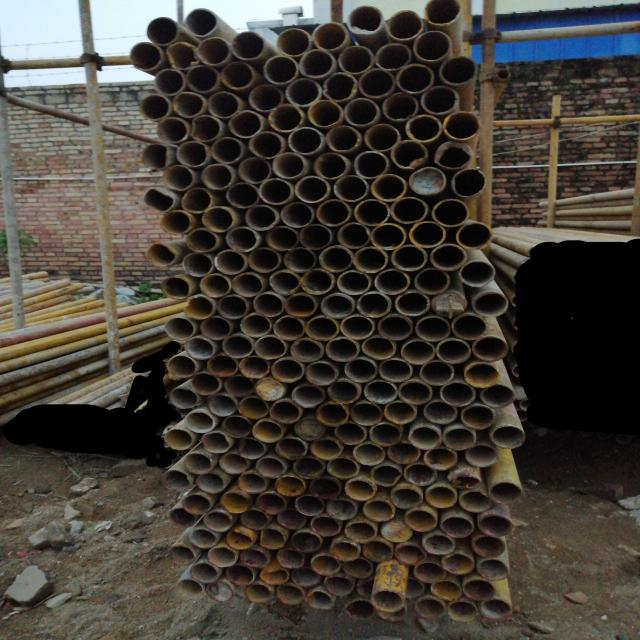pipe: (345, 2, 387, 34), (438, 56, 482, 86), (434, 140, 475, 170), (387, 245, 429, 274), (413, 31, 451, 63), (357, 68, 395, 100), (397, 63, 434, 95), (375, 43, 413, 73), (420, 86, 458, 116), (443, 110, 481, 140), (390, 138, 428, 168), (270, 153, 311, 180), (250, 376, 291, 403), (408, 167, 446, 196), (344, 354, 378, 386), (333, 46, 373, 73), (340, 98, 380, 125), (248, 84, 286, 112), (405, 114, 443, 142), (312, 152, 350, 180), (454, 222, 492, 250), (458, 260, 496, 288), (401, 466, 445, 490), (322, 71, 356, 102), (388, 9, 423, 39), (381, 442, 423, 467), (230, 31, 266, 60), (286, 127, 322, 156), (312, 22, 349, 50), (268, 104, 305, 132), (382, 93, 419, 121), (363, 123, 400, 151), (369, 174, 406, 202), (408, 221, 446, 248), (430, 292, 468, 319), (378, 358, 416, 385), (266, 544, 307, 569), (320, 245, 354, 275), (370, 221, 405, 250), (420, 359, 455, 388), (431, 200, 470, 226), (286, 384, 325, 410), (396, 380, 435, 406), (258, 177, 294, 205), (299, 268, 335, 296), (294, 175, 331, 202), (390, 197, 427, 224), (413, 268, 450, 295), (272, 355, 304, 386), (129, 41, 162, 71), (277, 27, 310, 57), (228, 111, 266, 137), (233, 356, 271, 382), (197, 36, 231, 65), (204, 546, 245, 570), (303, 553, 344, 577), (168, 42, 203, 70), (307, 99, 342, 127), (452, 168, 487, 196), (452, 312, 487, 340), (310, 436, 345, 464), (200, 164, 236, 191), (425, 0, 462, 26), (471, 292, 508, 318), (471, 336, 508, 362), (424, 446, 461, 472), (359, 336, 399, 360), (185, 8, 218, 37), (230, 273, 268, 298), (462, 363, 500, 388), (225, 182, 260, 209), (356, 247, 391, 274), (436, 338, 471, 365), (284, 79, 320, 105), (374, 269, 410, 295), (273, 436, 309, 462), (146, 16, 177, 46), (342, 222, 374, 251), (319, 293, 356, 318), (285, 530, 323, 554), (324, 126, 359, 152), (357, 292, 392, 318), (464, 446, 499, 472), (318, 576, 359, 598), (429, 245, 465, 270), (377, 315, 413, 340), (492, 424, 528, 449), (463, 577, 499, 602), (407, 425, 443, 450), (180, 186, 212, 214), (292, 565, 324, 593), (250, 131, 283, 158), (238, 157, 271, 184), (189, 116, 226, 140), (207, 138, 244, 162), (394, 292, 431, 316), (207, 90, 241, 116), (254, 337, 288, 363), (326, 337, 360, 363), (443, 425, 477, 451), (400, 509, 440, 531), (302, 361, 337, 386), (349, 401, 384, 426), (263, 58, 299, 82), (354, 151, 386, 178), (317, 202, 353, 226), (180, 252, 216, 276), (160, 276, 196, 300), (416, 316, 452, 340), (400, 340, 436, 364), (422, 400, 458, 424), (477, 513, 513, 537), (337, 269, 370, 295), (305, 315, 338, 341), (221, 334, 254, 360), (184, 295, 218, 320), (340, 315, 374, 340), (237, 395, 271, 420), (461, 404, 495, 429), (333, 176, 368, 200), (289, 338, 324, 362), (471, 534, 506, 558), (246, 205, 277, 232), (366, 589, 404, 611), (188, 68, 220, 94), (302, 53, 334, 79), (227, 226, 259, 252), (216, 294, 248, 320), (330, 380, 362, 406), (316, 401, 348, 427), (271, 317, 307, 340), (142, 187, 175, 212), (199, 316, 232, 341), (489, 480, 522, 505), (152, 70, 186, 94), (220, 64, 254, 88), (160, 166, 194, 190), (248, 248, 282, 272), (166, 317, 200, 341), (458, 489, 492, 513), (158, 117, 188, 144), (145, 242, 176, 268), (138, 95, 170, 120), (184, 227, 216, 252), (159, 212, 197, 233), (179, 454, 217, 475), (357, 200, 390, 224), (285, 293, 318, 317), (368, 423, 401, 447), (380, 520, 413, 544), (190, 562, 223, 586), (222, 526, 255, 550), (272, 584, 308, 606), (300, 225, 334, 248), (442, 384, 476, 407), (219, 415, 253, 438), (384, 401, 418, 424), (173, 91, 204, 116), (214, 249, 245, 274), (362, 497, 393, 522), (203, 209, 238, 231), (176, 142, 208, 166), (252, 294, 284, 318), (184, 336, 216, 360), (344, 478, 376, 502), (409, 562, 447, 582), (235, 439, 268, 462), (183, 412, 217, 434), (422, 533, 456, 555), (166, 542, 200, 564), (479, 597, 513, 619), (294, 458, 325, 482), (332, 538, 363, 562), (340, 559, 377, 579), (269, 271, 301, 294), (251, 420, 283, 443), (334, 423, 366, 446), (390, 486, 422, 509), (140, 143, 168, 169), (169, 352, 197, 378), (283, 248, 316, 270), (197, 430, 230, 452), (441, 516, 474, 538), (370, 462, 400, 486), (294, 494, 324, 518), (276, 508, 306, 532), (240, 583, 274, 604), (293, 417, 324, 440), (236, 472, 267, 495), (200, 276, 232, 298), (162, 429, 194, 451), (446, 471, 478, 493), (201, 509, 233, 531), (344, 520, 376, 542), (241, 356, 269, 381), (328, 497, 356, 522), (310, 476, 339, 500), (203, 581, 236, 602), (414, 598, 447, 619), (267, 227, 297, 250), (169, 386, 199, 409), (254, 568, 292, 586), (483, 385, 514, 407), (426, 487, 457, 509), (223, 564, 254, 586), (448, 600, 479, 622), (222, 377, 256, 397), (270, 402, 304, 422), (284, 204, 312, 228), (240, 316, 272, 337), (352, 444, 380, 468), (220, 454, 248, 478), (256, 492, 288, 513), (210, 355, 239, 378), (192, 373, 222, 395), (274, 475, 304, 497), (310, 515, 340, 537), (173, 578, 204, 599), (194, 473, 225, 494), (181, 494, 211, 515), (209, 396, 237, 418), (329, 460, 357, 482), (221, 492, 249, 514), (236, 511, 270, 529), (254, 530, 288, 548), (253, 458, 282, 479), (432, 580, 461, 601), (368, 383, 398, 403), (343, 601, 376, 619), (305, 590, 334, 610), (188, 528, 220, 546), (164, 470, 190, 492), (445, 554, 471, 576), (390, 582, 428, 597), (380, 603, 408, 623), (361, 542, 392, 560), (168, 506, 198, 524), (394, 546, 421, 566), (239, 550, 268, 568)
